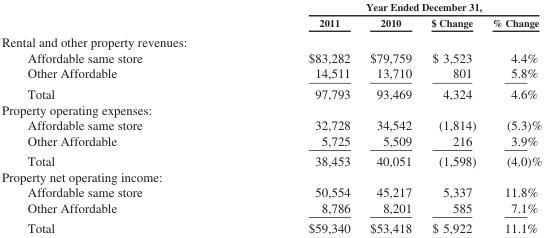table: (0, 0, 541, 235)
table column: (0, 0, 224, 235), (224, 0, 359, 235), (420, 0, 483, 235), (359, 0, 420, 235), (483, 0, 541, 235)
table column header: (0, 0, 541, 31)
table projected row header: (0, 31, 541, 49), (0, 168, 541, 184), (0, 101, 541, 116)
table row: (0, 31, 541, 49), (0, 65, 541, 83), (0, 83, 541, 101), (0, 132, 541, 150), (0, 150, 541, 168), (0, 199, 541, 217), (0, 217, 541, 235), (0, 14, 541, 31), (0, 49, 541, 65), (0, 116, 541, 132), (0, 168, 541, 184), (0, 101, 541, 116), (0, 184, 541, 199), (0, 0, 541, 14)
table spanning cell: (224, 0, 541, 14)
